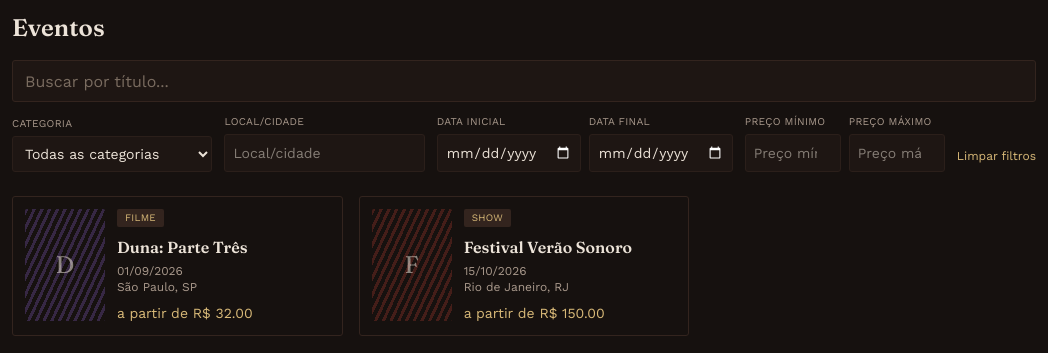
Scenario: HomePage › shows an empty state when no event matches
Expected: the heading "Duna: Parte Três" is shown, [117,238,248,258]
In the field with placeholder "Buscar por título...": (524, 81) [12,60,1036,102], type "não existe"
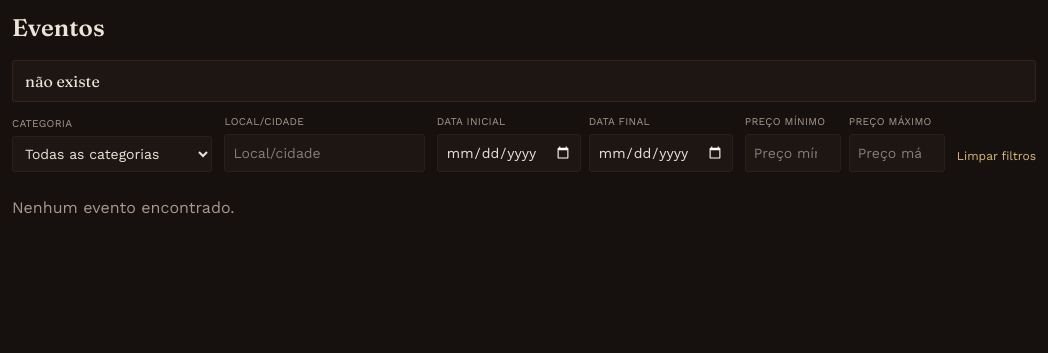
Result: the text "Nenhum evento encontrado." is shown at [12,198,234,217]
